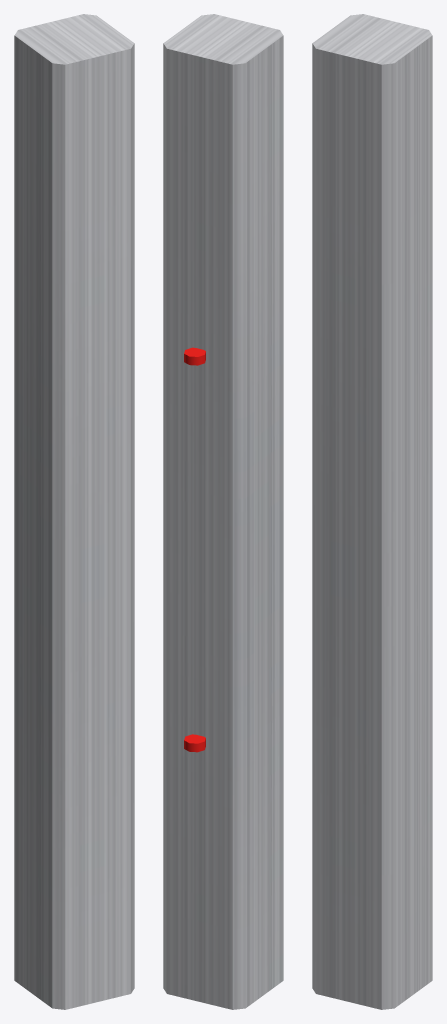
Rendered from laser_post.obj.
3 renders of one model, left to right at view 1: azimuth 30°, elevation 25°; view 2: azimuth 150°, elevation 25°; view 3: azimuth 330°, elevation 25°, orthographic.
Parts seen in each view (by area): view 1: laser_post; view 2: laser_post; view 3: laser_post.
Boxes of the visible parts, box(x1,y1,x2,y2) form: laser_post: box(14, 14, 134, 1009); laser_post: box(163, 14, 283, 1009); laser_post: box(312, 14, 432, 1009).
Size of the model in its own units: 0.1 by 1.1 by 0.122.
2 materials, 1 textured.
